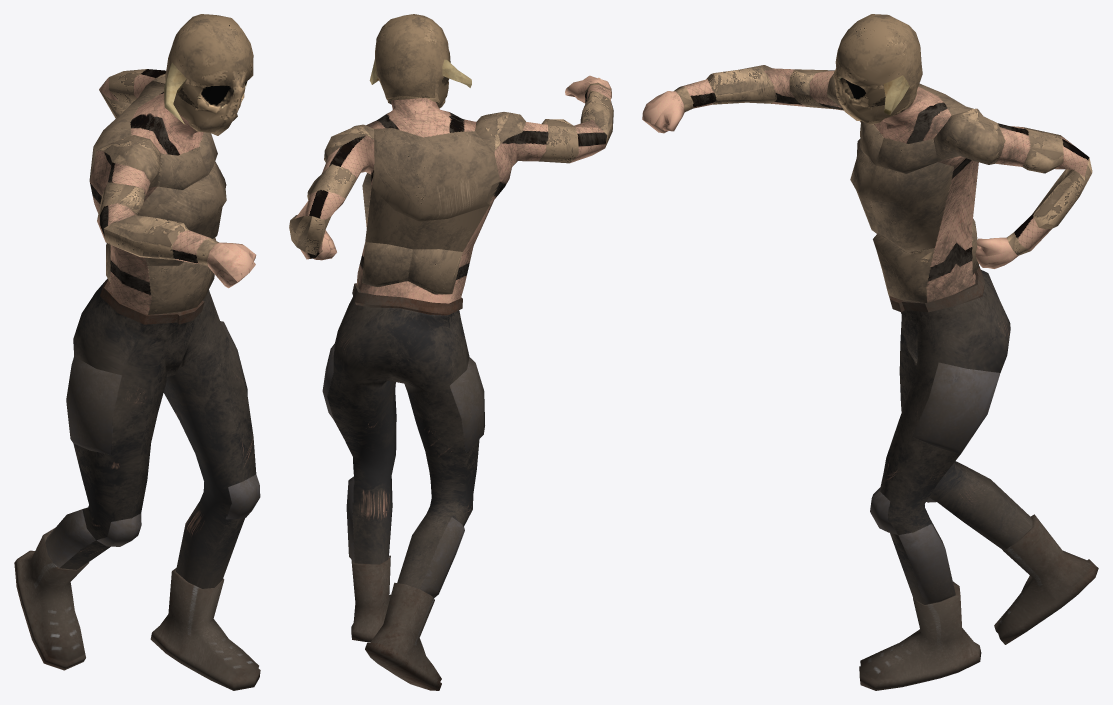
File: Anim_ataque_d3_npc1.0028.obj
The picture shows the model from 3 angles, left to right: view 1: azimuth 30°, elevation 25°; view 2: azimuth 150°, elevation 25°; view 3: azimuth 270°, elevation 25°; orthographic projection. The views are drawn at different scales.
Visible parts, largest first — view 1: NPC2; view 2: NPC2; view 3: NPC2.
Boxes of the visible parts, left/top/right/bottom form: NPC2: left=14, top=14, right=260, bottom=690; NPC2: left=289, top=14, right=613, bottom=690; NPC2: left=642, top=14, right=1098, bottom=690.
Bounding box in the file's own units: 3.19 × 9.27 × 5.82.
